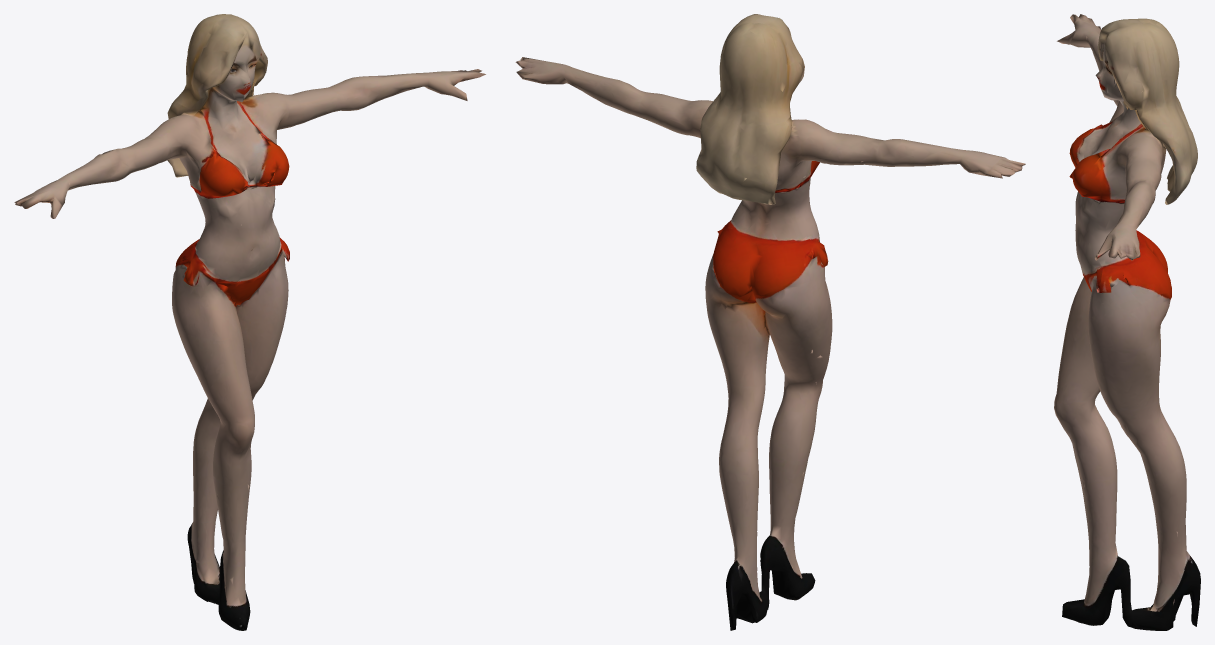
Rendered from dancer_female.glb.
3 renders of one model, left to right at view 1: azimuth 30°, elevation 25°; view 2: azimuth 150°, elevation 25°; view 3: azimuth 270°, elevation 25°, orthographic. The views are drawn at different scales.
Parts seen in each view (by area): view 1: tripo_node_aba1a143; view 2: tripo_node_aba1a143; view 3: tripo_node_aba1a143.
Boxes of the visible parts, <box> form: tripo_node_aba1a143: <box>14,14,485,630</box>; tripo_node_aba1a143: <box>515,14,1025,630</box>; tripo_node_aba1a143: <box>1054,14,1200,630</box>.
Size of the model in its own units: 0.8674 by 0.9994 by 0.2194.
1 material, 1 textured.
